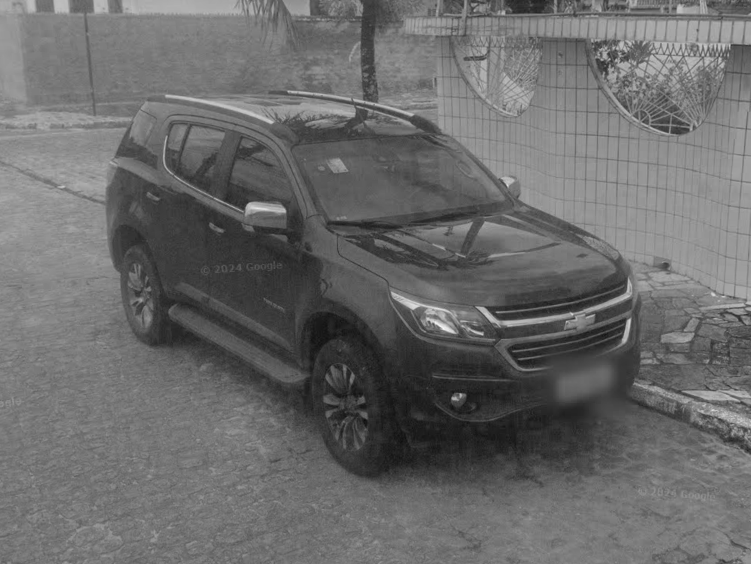car: (100, 87, 643, 482)
